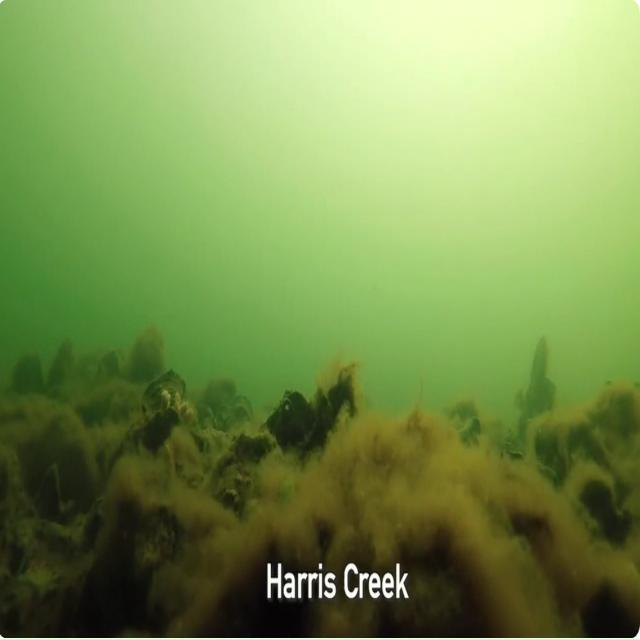Oyster- Indeterminate: (258, 386, 325, 457), (127, 502, 184, 580), (571, 474, 634, 540), (582, 581, 639, 637), (561, 418, 610, 477), (529, 424, 572, 489), (589, 386, 640, 438), (137, 366, 191, 415), (446, 397, 487, 450), (527, 336, 560, 398), (31, 515, 81, 555), (78, 494, 114, 541), (309, 388, 336, 449), (325, 368, 357, 419), (231, 434, 275, 463), (221, 391, 256, 425), (183, 425, 218, 458), (230, 404, 253, 427)
Oyster-Closed: (192, 399, 217, 432)
Oyster-Open: (126, 400, 189, 460)
